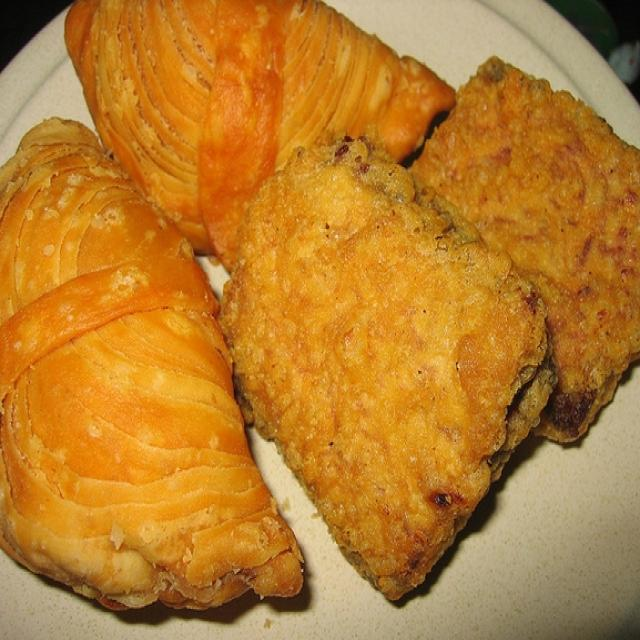炸货点心: (13, 28, 609, 612)
